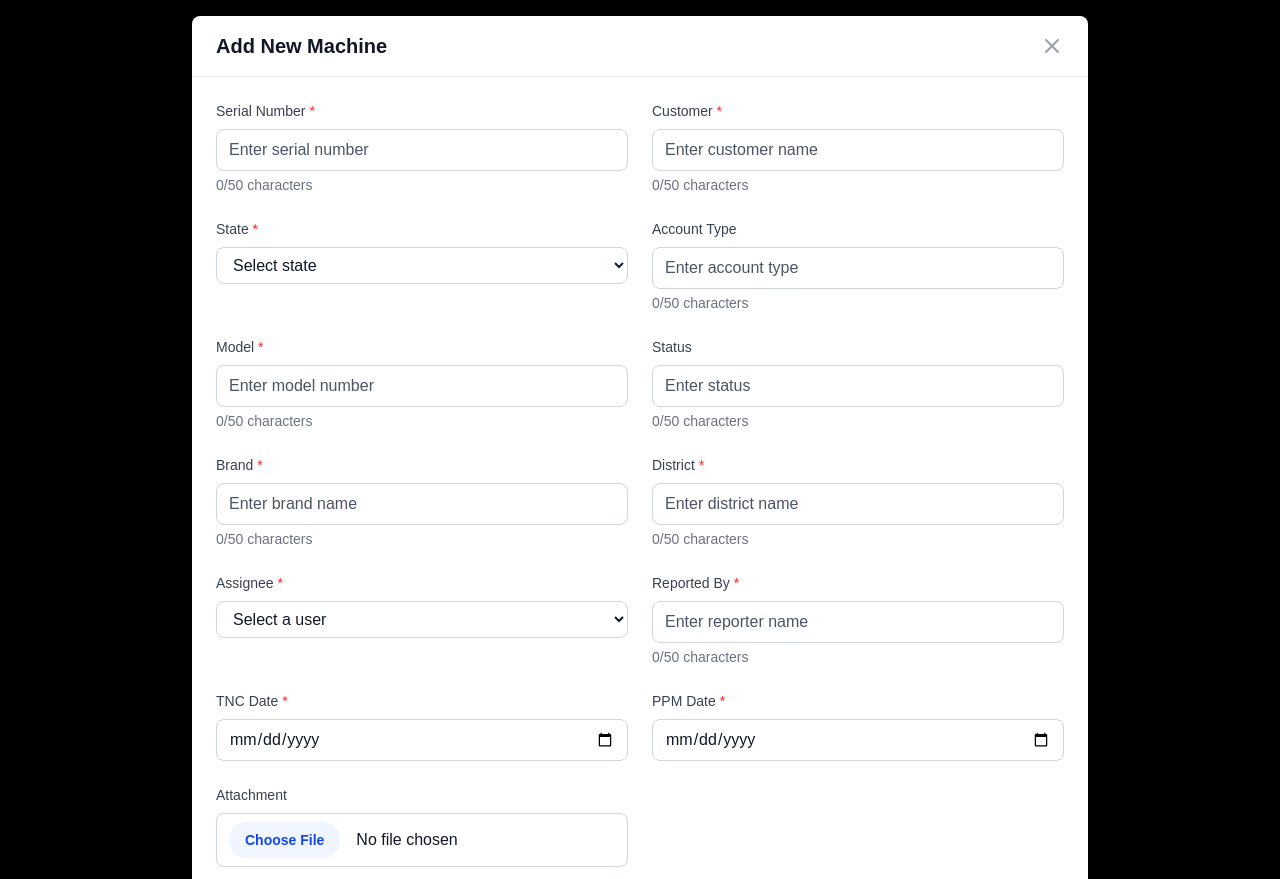
Scenario: MachineModal › assignee field › switching back to a user hides the free-text input
Select "Someone else (enter a name)" in the dropdown labelled "Assignee *". click: (422, 620)
box: [216,601,628,638]
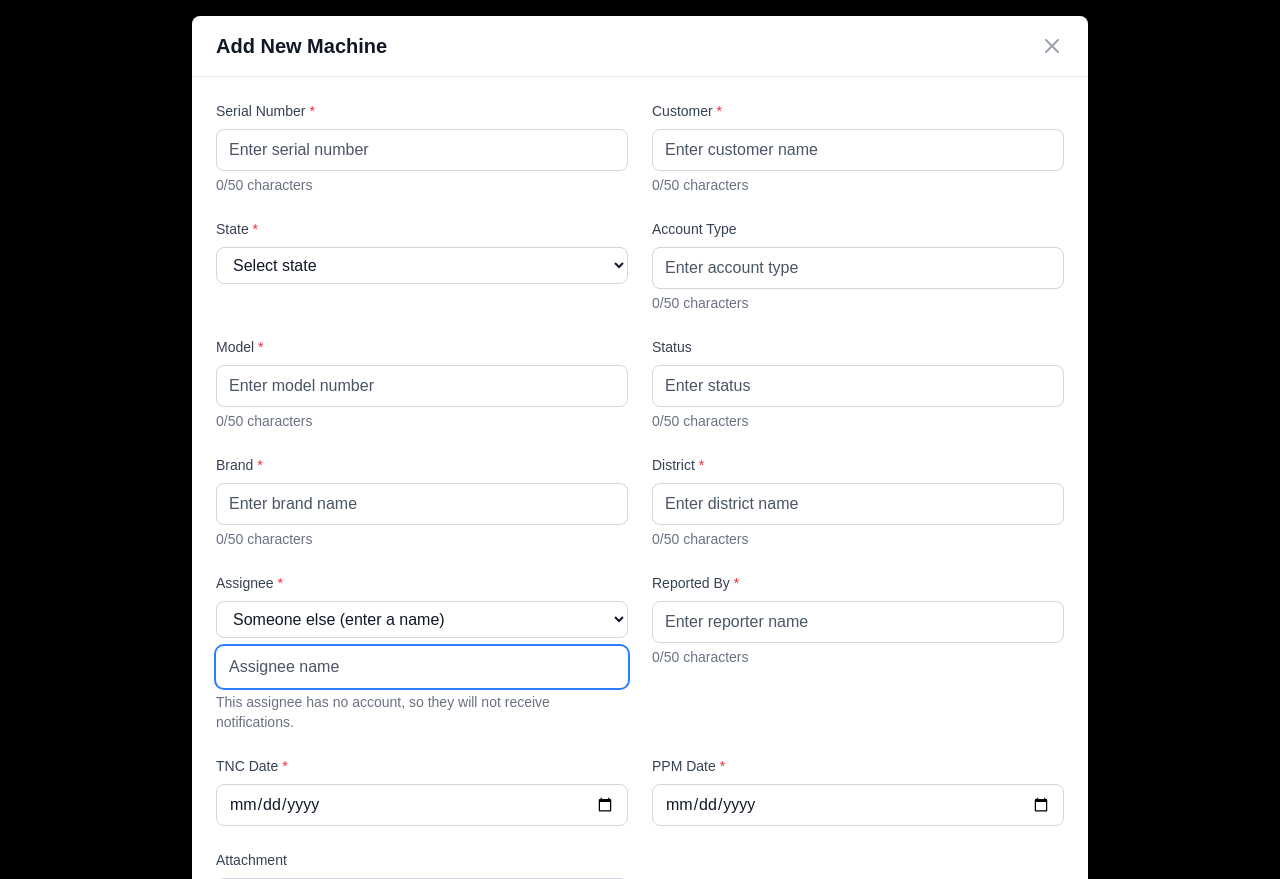
Type "Ghost" into the field labelled "Assignee name". click: (422, 667)
box: [216,646,628,688]
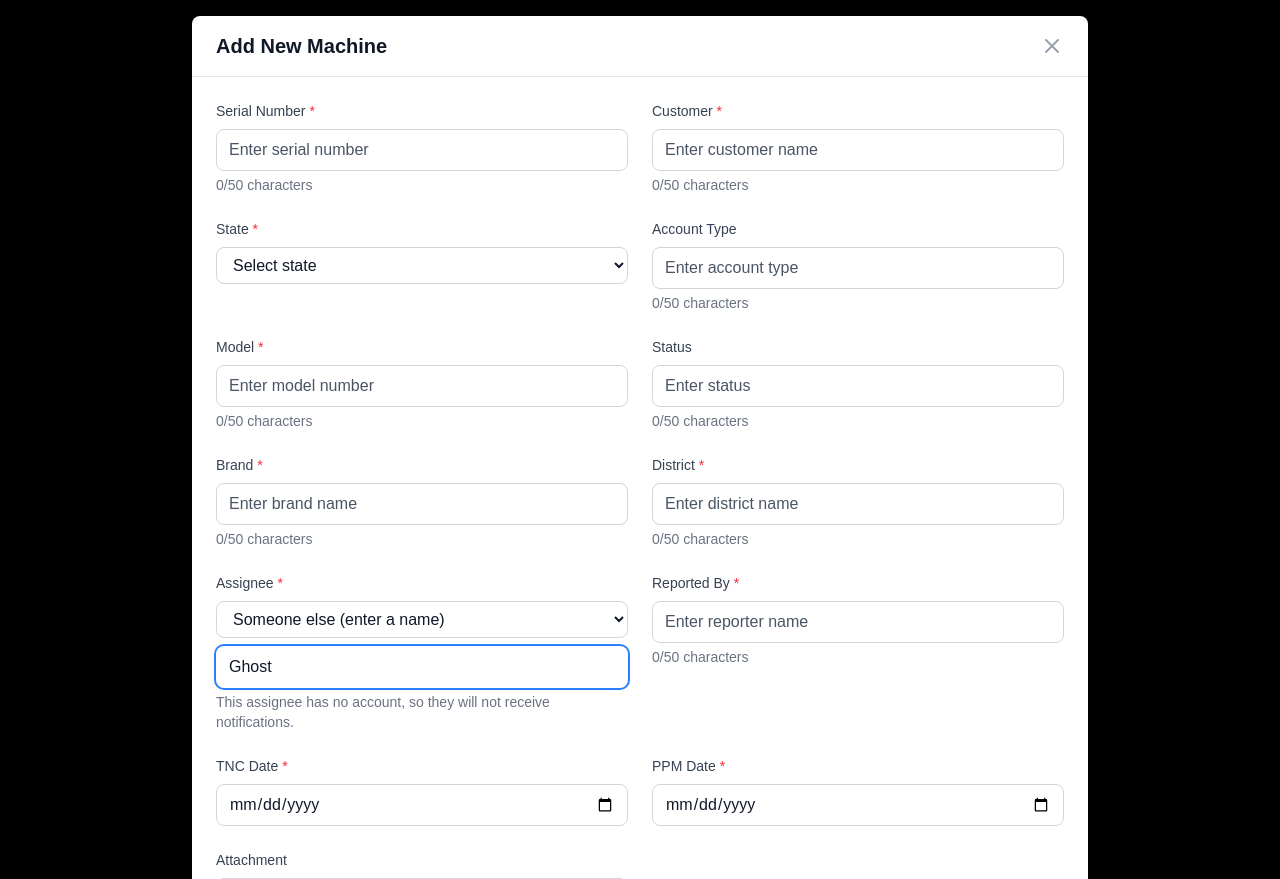
Select "John Doe (john@example.com)" in the dropdown labelled "Assignee *". click: (422, 620)
box: [216,601,628,638]
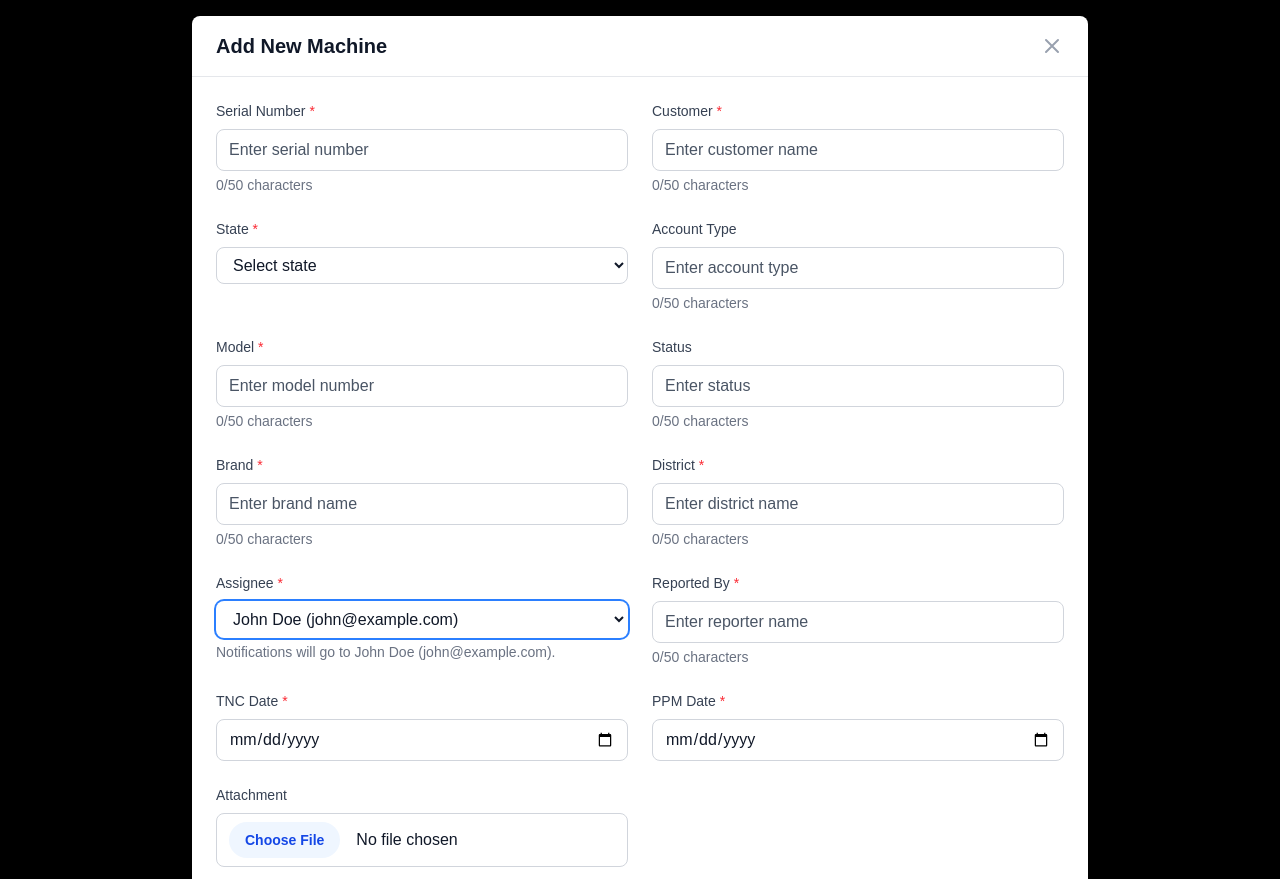
Expected: the field labelled "Assignee name" is not shown
Now the text "Notifications will go to John Doe (john@example.com)." is shown, box [216,644,556,660]
